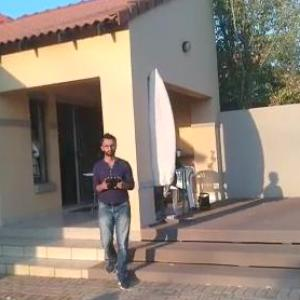follow: (92, 128, 140, 290)
